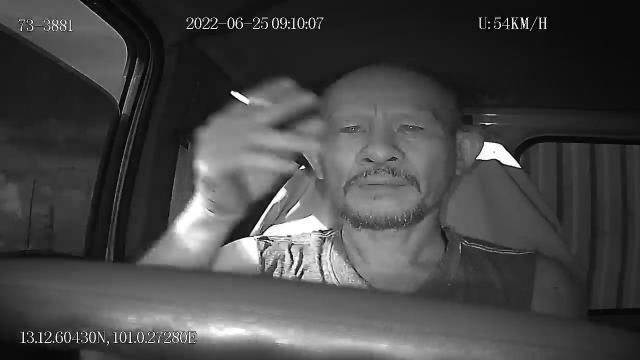SafeDriving: (389, 112, 434, 141), (332, 114, 373, 140)
Smoking: (230, 90, 276, 109)
